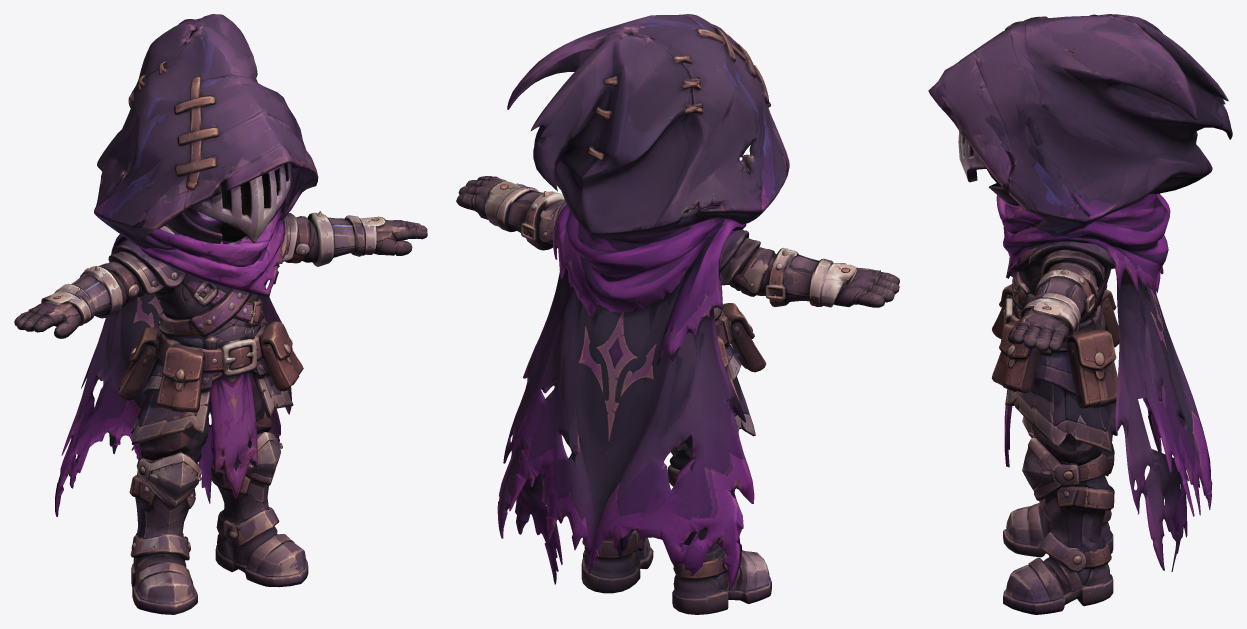
File: tripo_split_raw.glb
3 views of the same model, side by side, from view 1: azimuth 30°, elevation 25°; view 2: azimuth 150°, elevation 25°; view 3: azimuth 270°, elevation 25° (orthographic). The views are drawn at different scales.
Visible parts, largest first — view 1: tripo_part_0, tripo_part_7, tripo_part_5, tripo_part_13, tripo_part_2, tripo_part_4, tripo_part_9, tripo_part_22, tripo_part_8, tripo_part_15, tripo_part_14, tripo_part_18 (+15 smaller); view 2: tripo_part_7, tripo_part_0, tripo_part_2, tripo_part_13, tripo_part_14, tripo_part_15, tripo_part_5, tripo_part_6, tripo_part_18, tripo_part_26, tripo_part_3, tripo_part_8 (+2 smaller); view 3: tripo_part_0, tripo_part_7, tripo_part_5, tripo_part_2, tripo_part_8, tripo_part_17, tripo_part_15, tripo_part_13, tripo_part_33, tripo_part_19, tripo_part_3, tripo_part_4 (+9 smaller).
Part boxes in pixels (bbox=[...]): tripo_part_0: bbox=[94, 14, 318, 249]; tripo_part_7: bbox=[55, 287, 292, 516]; tripo_part_5: bbox=[210, 463, 308, 587]; tripo_part_13: bbox=[129, 475, 197, 614]; tripo_part_2: bbox=[111, 208, 285, 297]; tripo_part_4: bbox=[154, 236, 263, 348]; tripo_part_9: bbox=[167, 163, 292, 244]; tripo_part_22: bbox=[210, 372, 257, 498]; tripo_part_8: bbox=[130, 357, 293, 445]; tripo_part_15: bbox=[307, 213, 386, 266]; tripo_part_14: bbox=[41, 266, 122, 325]; tripo_part_18: bbox=[156, 346, 204, 412]; tripo_part_7: bbox=[497, 268, 754, 591]; tripo_part_0: bbox=[507, 14, 789, 239]; tripo_part_2: bbox=[552, 202, 746, 365]; tripo_part_13: bbox=[671, 487, 771, 614]; tripo_part_14: bbox=[765, 248, 856, 307]; tripo_part_15: bbox=[485, 181, 564, 250]; tripo_part_5: bbox=[581, 530, 653, 593]; tripo_part_6: bbox=[833, 267, 899, 307]; tripo_part_18: bbox=[723, 303, 766, 372]; tripo_part_26: bbox=[732, 247, 774, 296]; tripo_part_3: bbox=[456, 176, 506, 219]; tripo_part_8: bbox=[671, 343, 755, 458]; tripo_part_0: bbox=[928, 14, 1232, 236]; tripo_part_7: bbox=[1115, 270, 1212, 571]; tripo_part_5: bbox=[1003, 474, 1114, 614]; tripo_part_2: bbox=[996, 193, 1170, 294]; tripo_part_8: bbox=[1005, 352, 1117, 452]; tripo_part_17: bbox=[1067, 329, 1117, 408]; tripo_part_15: bbox=[1019, 269, 1094, 336]; tripo_part_13: bbox=[1003, 443, 1114, 557]; tripo_part_33: bbox=[1022, 437, 1079, 500]; tripo_part_19: bbox=[992, 321, 1040, 393]; tripo_part_3: bbox=[1008, 309, 1069, 351]; tripo_part_4: bbox=[1010, 254, 1111, 325].
Bounding box in the file's own units: 0.7944 × 0.9995 × 0.4898.
Materials: 137 (137 with a texture image).
